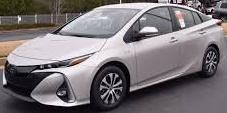Cars: (5, 5, 224, 111)
